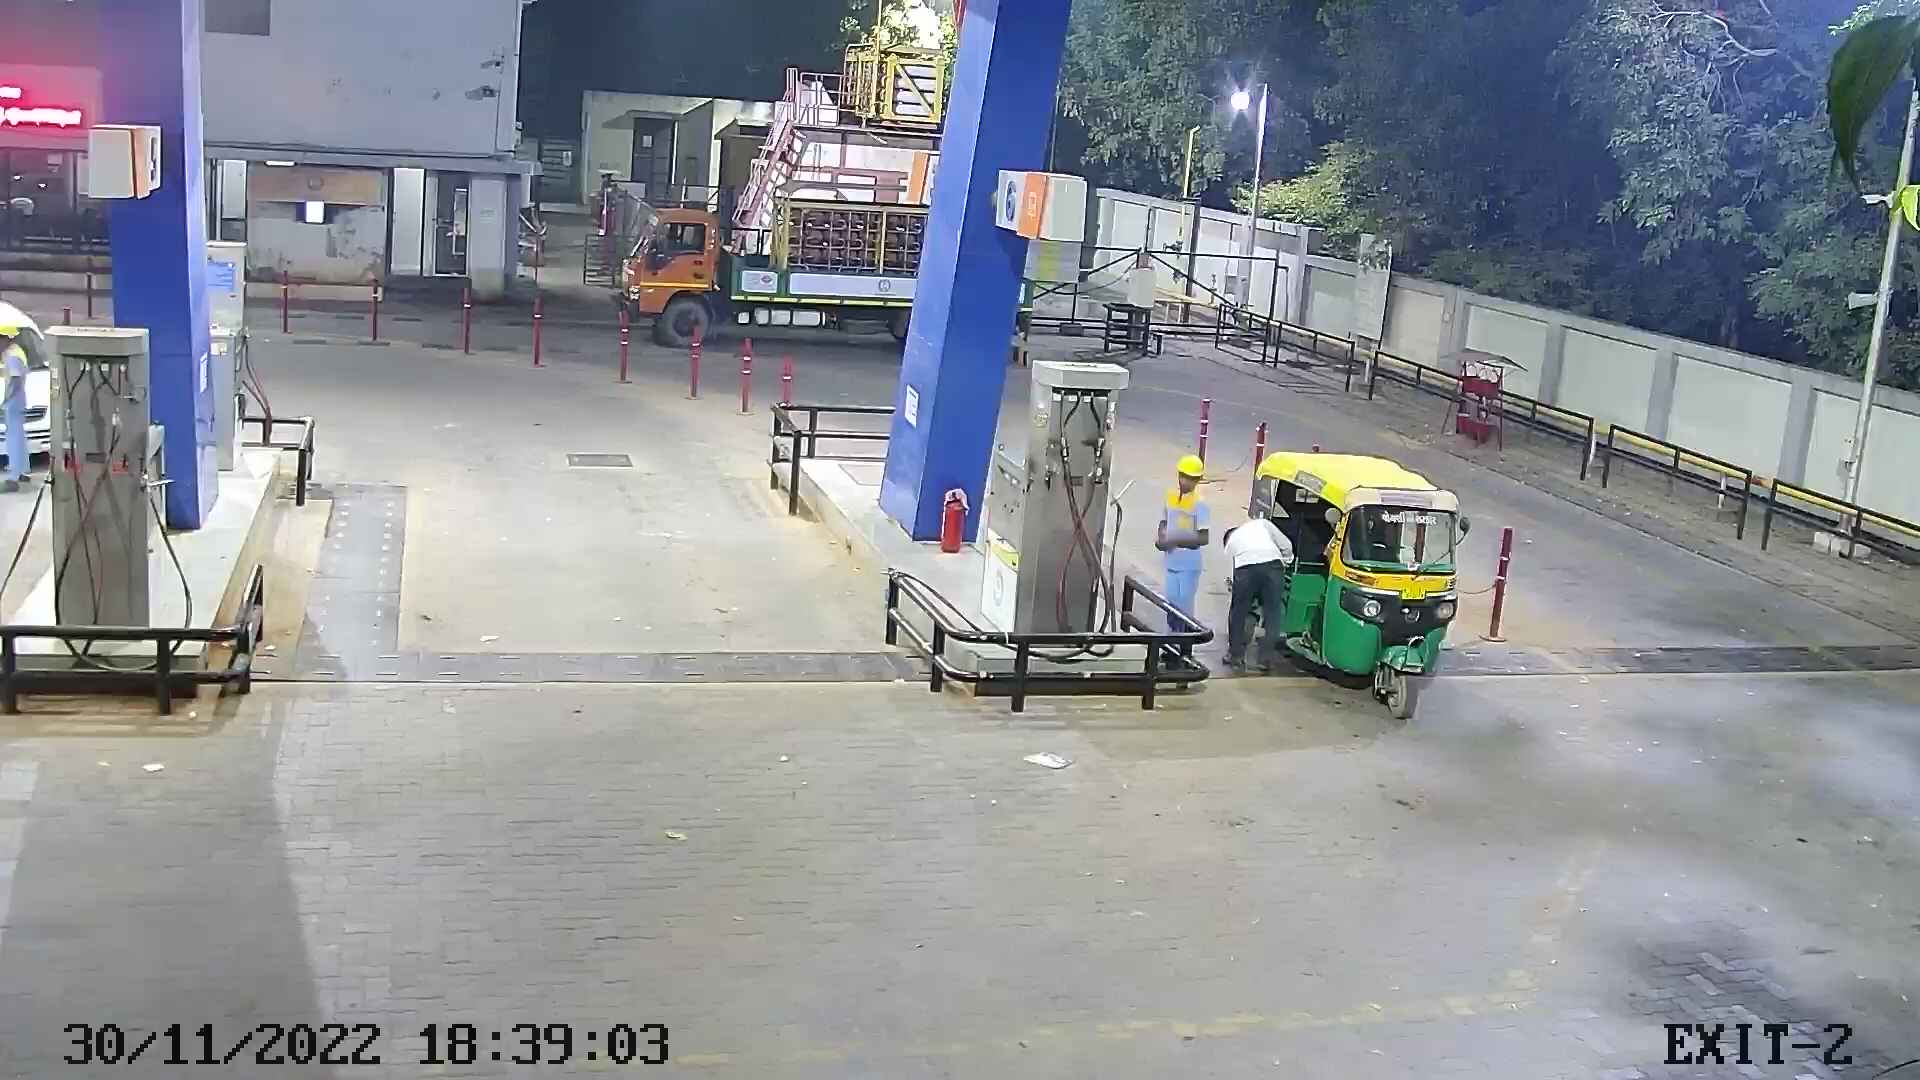Auto: (1220, 440, 1480, 728)
Car: (0, 274, 61, 473)
HMV: (599, 166, 938, 356)
Others: (1145, 446, 1215, 673), (0, 311, 36, 502)
